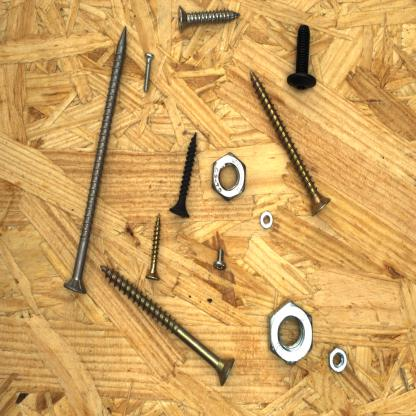screw: (61, 23, 132, 296), (98, 260, 240, 390), (248, 64, 336, 220), (166, 130, 200, 222), (285, 21, 320, 95), (173, 3, 253, 34), (143, 211, 164, 284), (138, 50, 158, 96), (210, 247, 229, 272)
